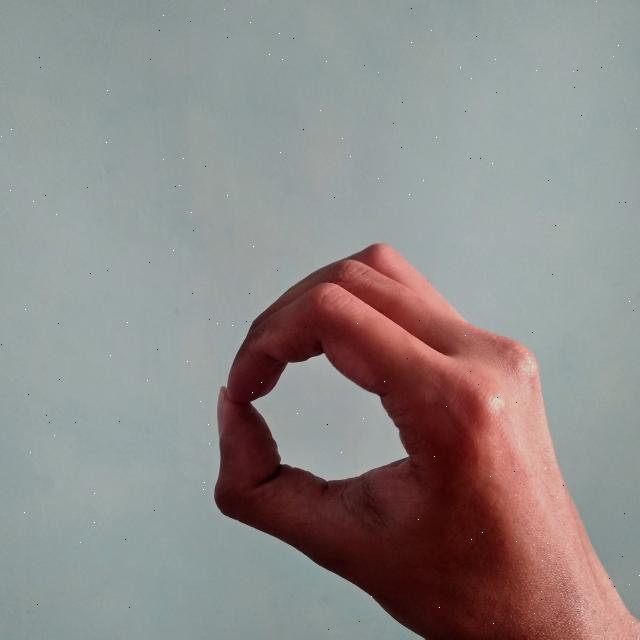O: (202, 237, 640, 640)
